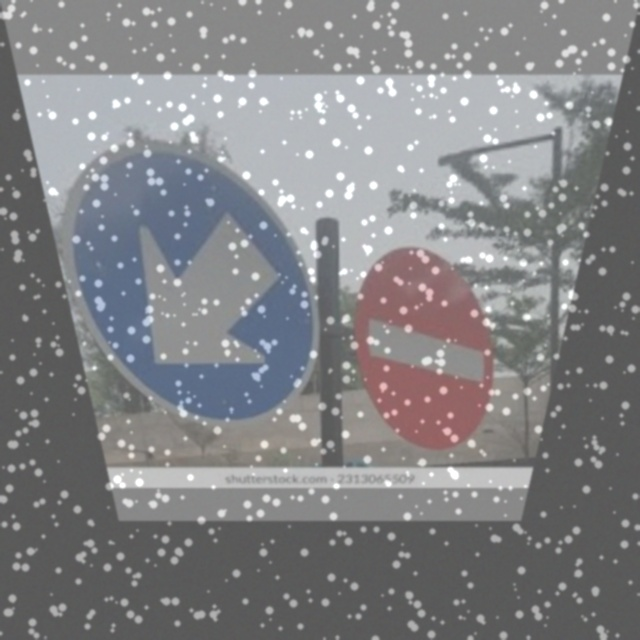Compulsory_Keep_Left: (46, 149, 326, 410)
